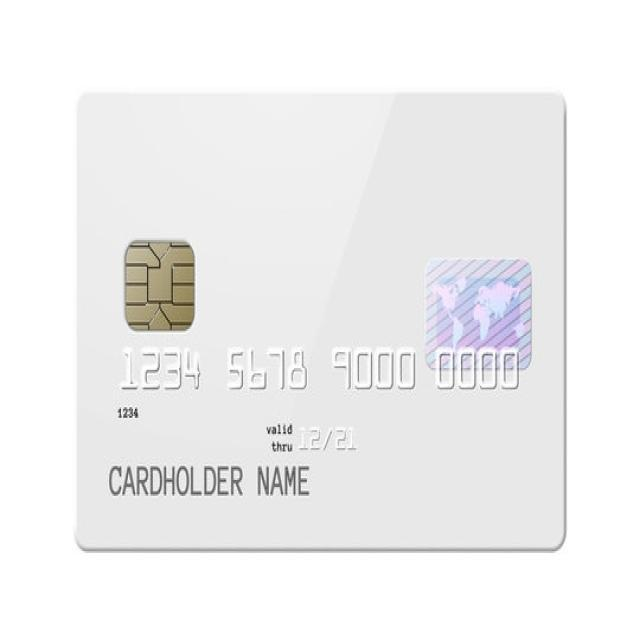payment_card: (75, 89, 567, 552)
